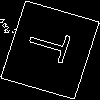T: (25, 25, 81, 67)
